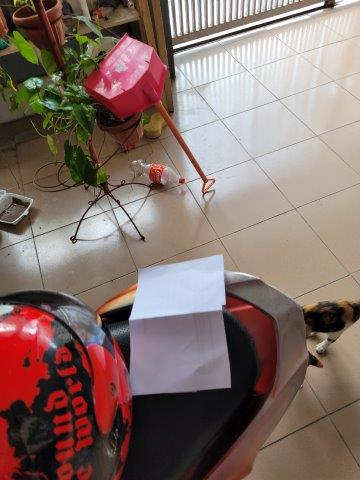botolplastik: (128, 161, 185, 187)
kertas: (123, 254, 231, 393)
